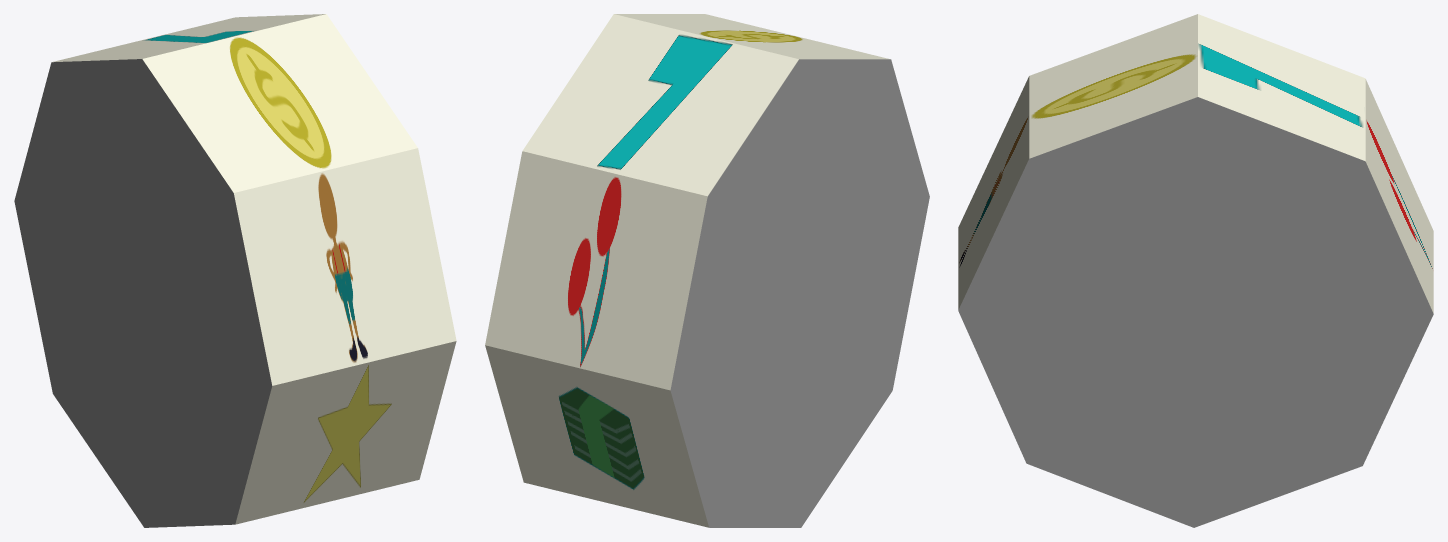
Rendered from winningsStatic.fbx.
3 renders of one model, left to right at view 1: azimuth 30°, elevation 25°; view 2: azimuth 150°, elevation 25°; view 3: azimuth 270°, elevation 25°, orthographic. The views are drawn at different scales.
Parts seen in each view (by area): view 1: pCylinder12; view 2: pCylinder12; view 3: pCylinder12.
Boxes of the visible parts, x1,y1,x2,y2 form: pCylinder12: (14,14,456,527); pCylinder12: (485,14,929,527); pCylinder12: (958,14,1433,527).
Bounding box in the file's own units: 0.8252 × 2 × 2.
